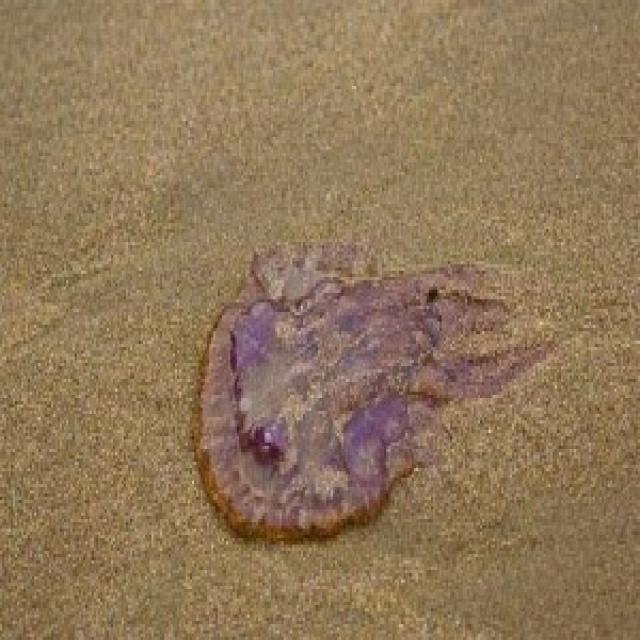Jellyfish: (178, 255, 538, 542)
